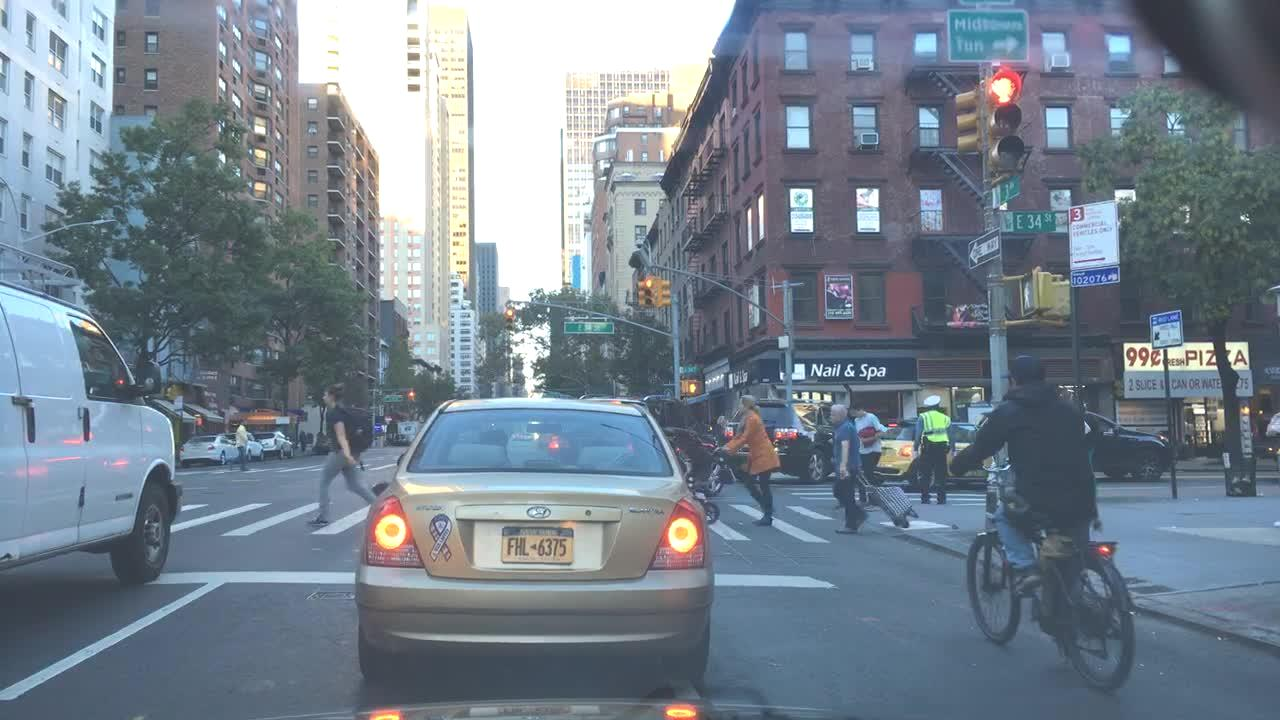Hyundai: (517, 497, 565, 531)
